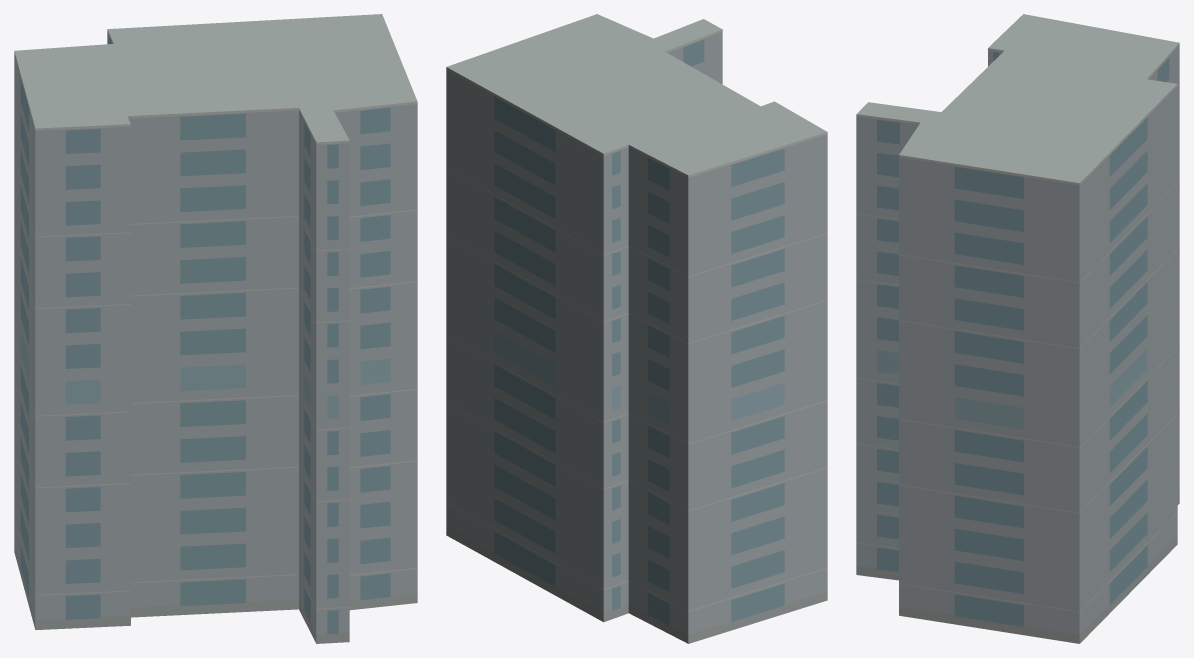
Rendered from survey-upis-33019942.glb.
3 renders of one model, left to right at view 1: azimuth 30°, elevation 25°; view 2: azimuth 150°, elevation 25°; view 3: azimuth 270°, elevation 25°, orthographic. The views are drawn at different scales.
Parts seen in each view (by area): view 1: survey-upis-33019942.tmp; view 2: survey-upis-33019942.tmp; view 3: survey-upis-33019942.tmp.
Part boxes in pixels (x1=…): survey-upis-33019942.tmp: x1=14, y1=14, x2=417, y2=643; survey-upis-33019942.tmp: x1=446, y1=14, x2=827, y2=643; survey-upis-33019942.tmp: x1=856, y1=14, x2=1179, y2=643.
Size of the model in its own units: 39.16 by 49.7 by 31.6.
